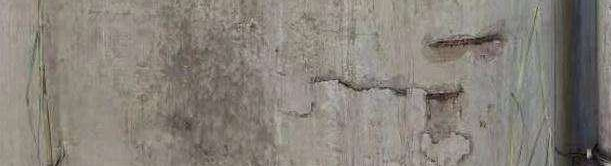Exposed reinforcement: (428, 33, 501, 49), (425, 91, 460, 100)
